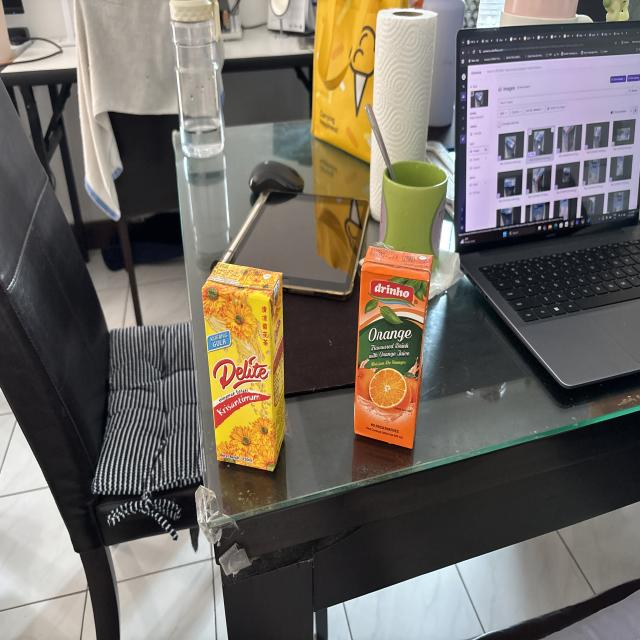drink_carton: (194, 253, 294, 477), (348, 238, 438, 456)
